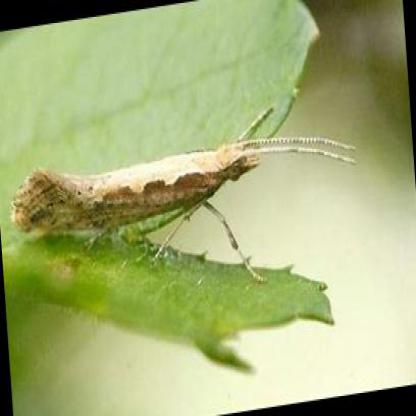plutella: (7, 100, 369, 285)
